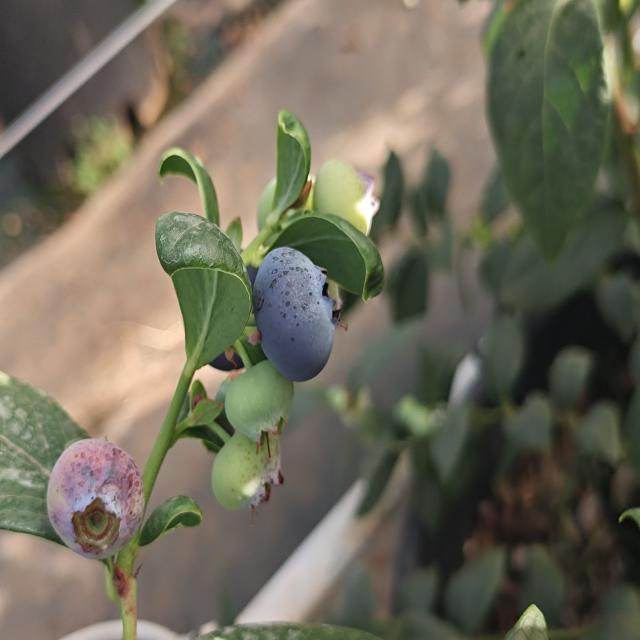ripe: (250, 244, 341, 385)
